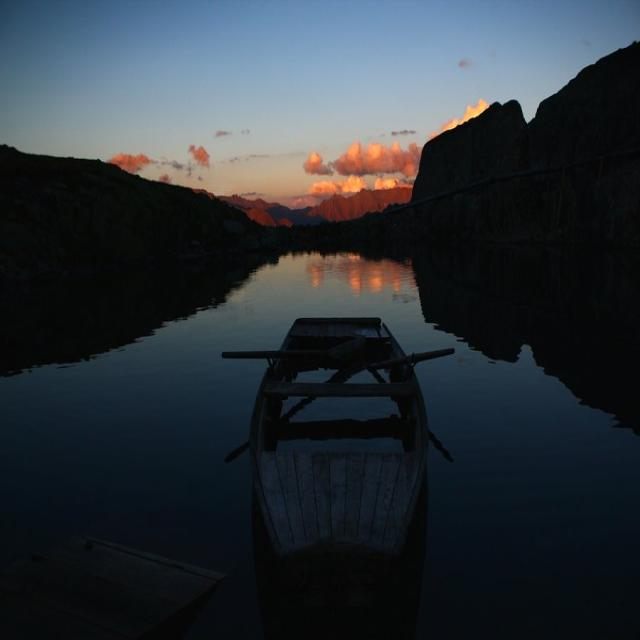Boat: (199, 307, 452, 575)
